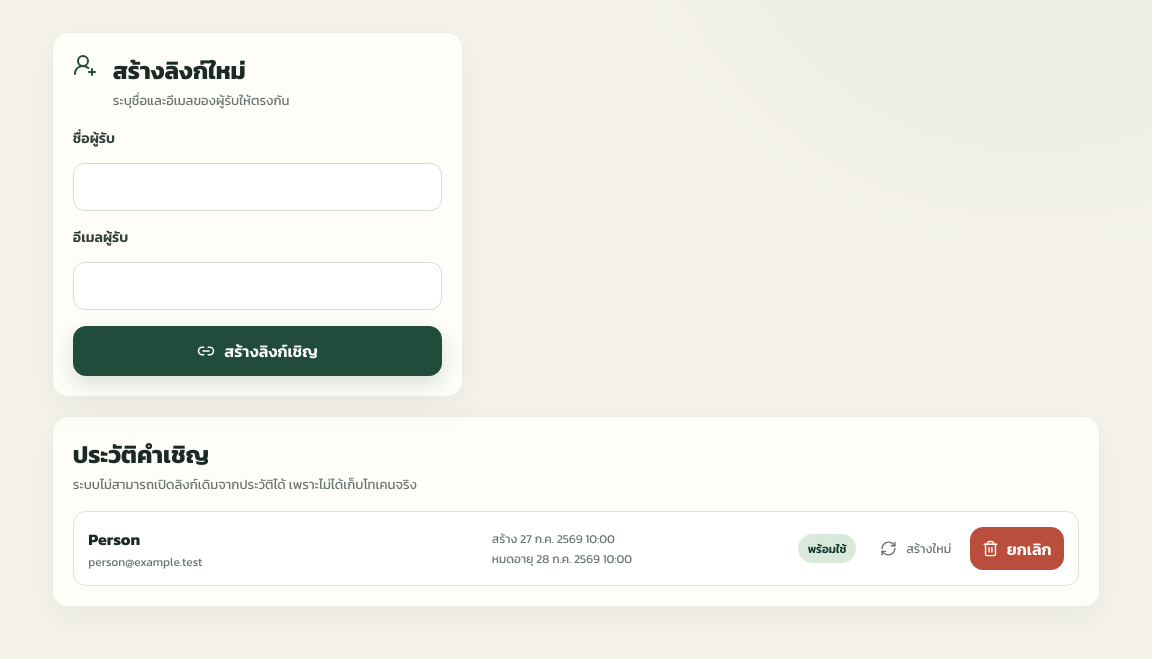
Test case: InvitationsPage › revokes an eligible invitation after confirmation
(page scrolled)
Click the button with aria-label "ยกเลิกคำเชิญ Person". click: (1017, 549)
box: [970, 527, 1064, 570]
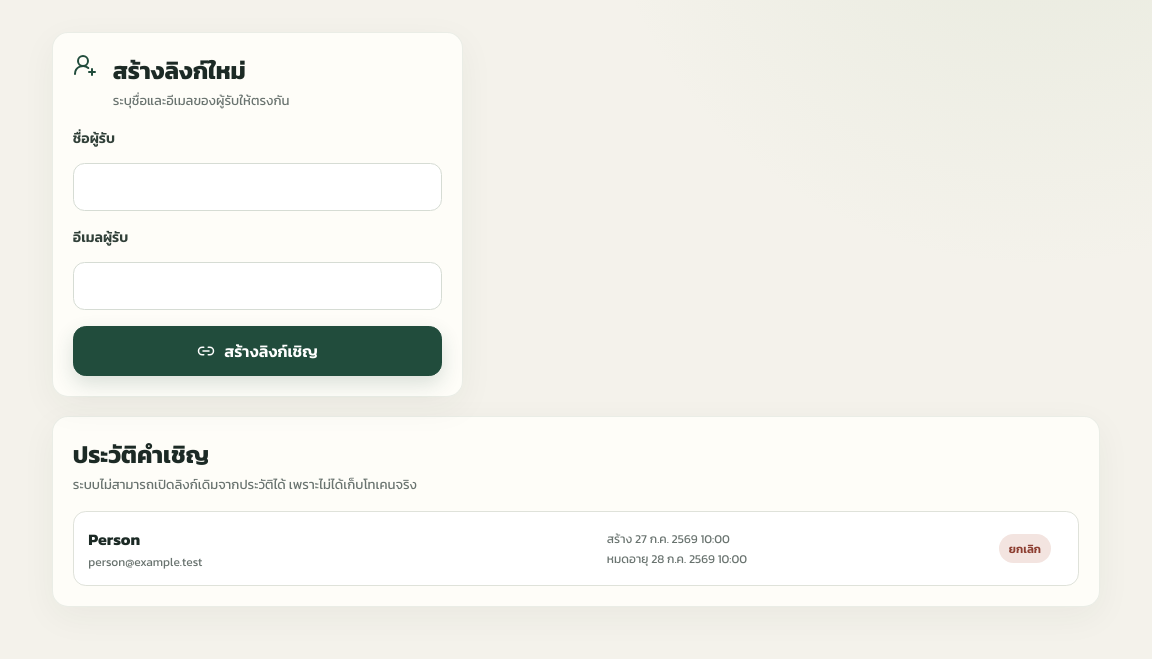
Result: the text "ยกเลิก" is shown at [999, 534, 1051, 563]
